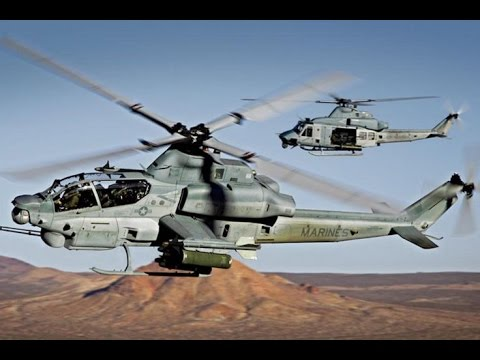MilitaryHelicopter: (28, 146, 479, 282), (263, 85, 469, 142)
